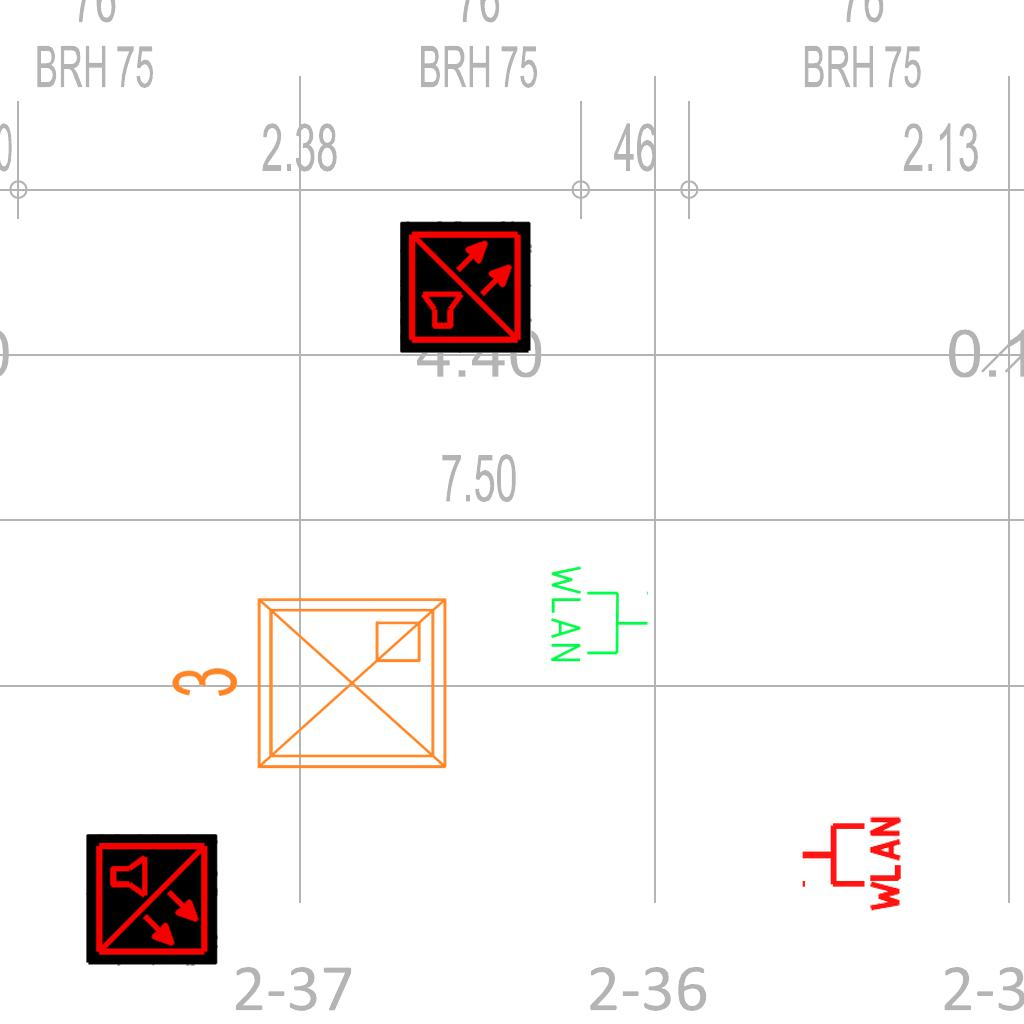Einbaudownlights_LED_Konferenzraeume: (161, 583, 461, 791)
OKW_Multisensormelder_(Kombination_optischer_Rauch-Kahlenmonoxid_Waerme-Melder): (400, 221, 532, 353), (86, 834, 218, 966)
WLAN: (547, 561, 651, 666), (798, 812, 903, 916)
